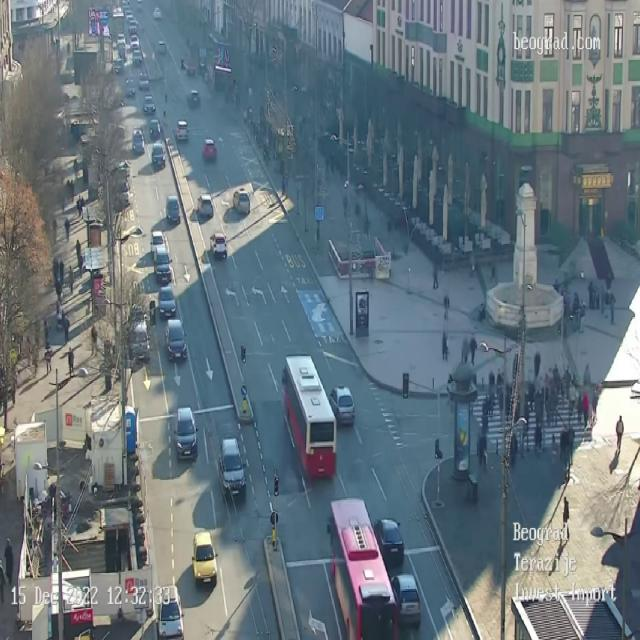bus: (329, 498, 398, 639), (281, 354, 337, 482)
car: (218, 438, 246, 496), (191, 530, 217, 583), (175, 406, 197, 459), (329, 385, 355, 426), (126, 315, 146, 357), (166, 318, 184, 360), (159, 288, 176, 318), (154, 253, 172, 281), (232, 186, 248, 217), (211, 232, 227, 260), (163, 194, 180, 220), (131, 129, 146, 155), (150, 226, 164, 251), (196, 195, 213, 215), (152, 149, 167, 168), (204, 140, 216, 161), (188, 88, 200, 108), (144, 95, 156, 115), (176, 122, 188, 140), (132, 50, 144, 68), (156, 41, 166, 58), (140, 76, 150, 92), (126, 83, 134, 102), (130, 36, 142, 48), (126, 21, 136, 33), (154, 8, 162, 20), (118, 38, 124, 52)
